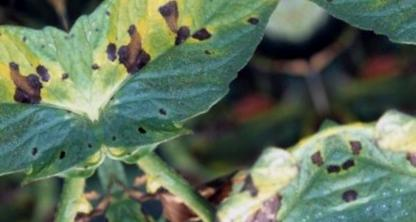Tomato Early blight leaf: (48, 0, 322, 170), (167, 55, 367, 222)
